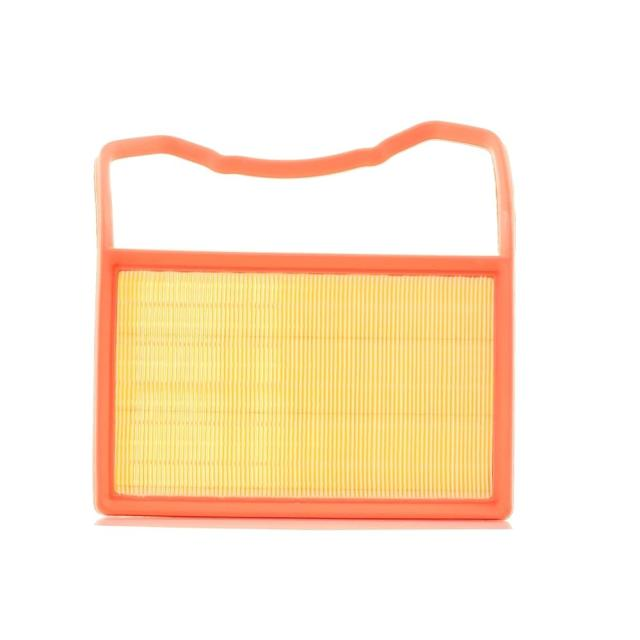air_filter: (87, 116, 520, 533)
